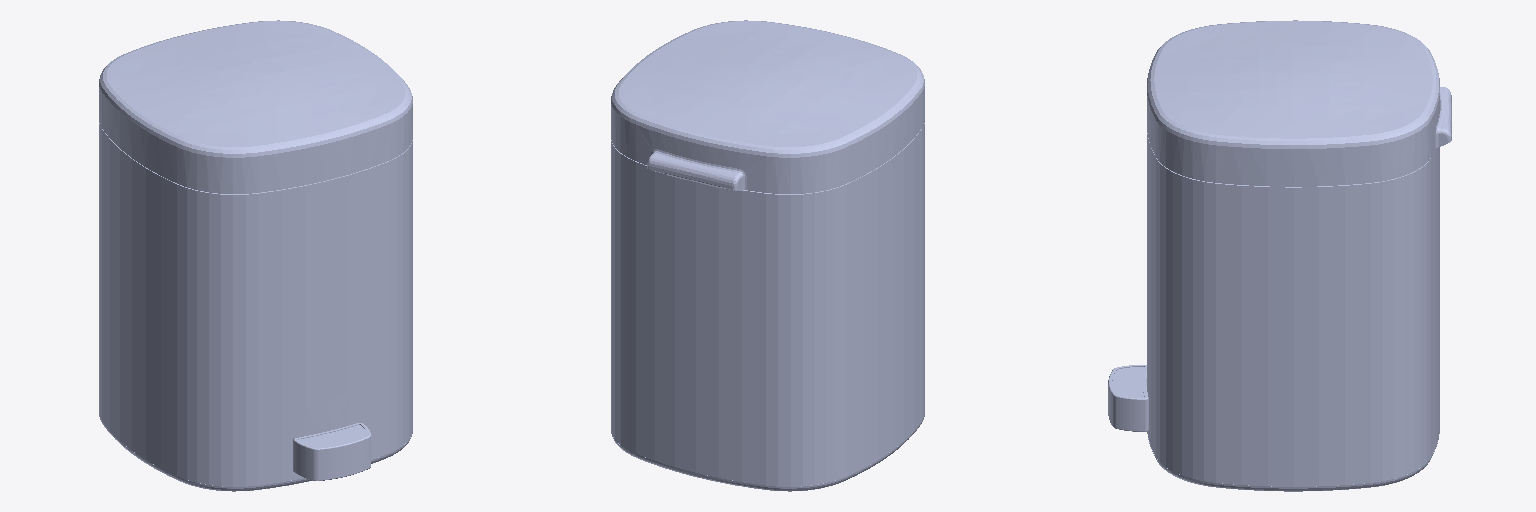
The robot description file, URDF, robot "trashcan1":
<robot
  name="trashcan1">
  <link
    name="trashcan1">
    <inertial>
      <origin
        xyz="-5.3753E-06 0.00511050000000001 0.21076"
        rpy="0 0 0" />
      <mass
        value="10.456" />
      <inertia
        ixx="0.477454557978313"
        ixy="4.05471465762524E-07"
        ixz="-1.37790537135304E-05"
        iyy="0.462169120817004"
        iyz="-0.00650400526365518"
        izz="0.287666083183392" />
    </inertial>
    <visual>
      <origin
        xyz="0 0 0"
        rpy="0 0 0" />
      <geometry>
        <mesh
          filename="package://trashcan1/meshes/trashcan1.dae" />
      </geometry>
      <material
        name="">
        <color
          rgba="0.79216 0.81961 0.93333 1" />
      </material>
    </visual>
    <collision>
      <origin
        xyz="0 0 0"
        rpy="0 0 0" />
      <geometry>
        <mesh
          filename="package://trashcan1/meshes/trashcan1.dae" />
      </geometry>
    </collision>
  </link>
</robot>

--- Facts derived from the render (not from the file) ---
Views: 3 orthographic renders of the robot side by side, from view 1: azimuth 30°, elevation 25°; view 2: azimuth 150°, elevation 25°; view 3: azimuth 270°, elevation 25°.
Model trashcan1 with 1 links and 0 joints (none), rooted at trashcan1, posed all joints at 0.
Visible links, largest first — view 1: trashcan1; view 2: trashcan1; view 3: trashcan1.
Boxes of the visible links, x1,y1,x2,y2 form: trashcan1: (99, 20, 412, 491); trashcan1: (611, 20, 924, 491); trashcan1: (1108, 20, 1451, 491).
Size in the robot's own frame: 0.3584 by 0.419 by 0.484 metres.
1 mesh visuals loaded from 1 distinct referenced files (1 Collada DAE).